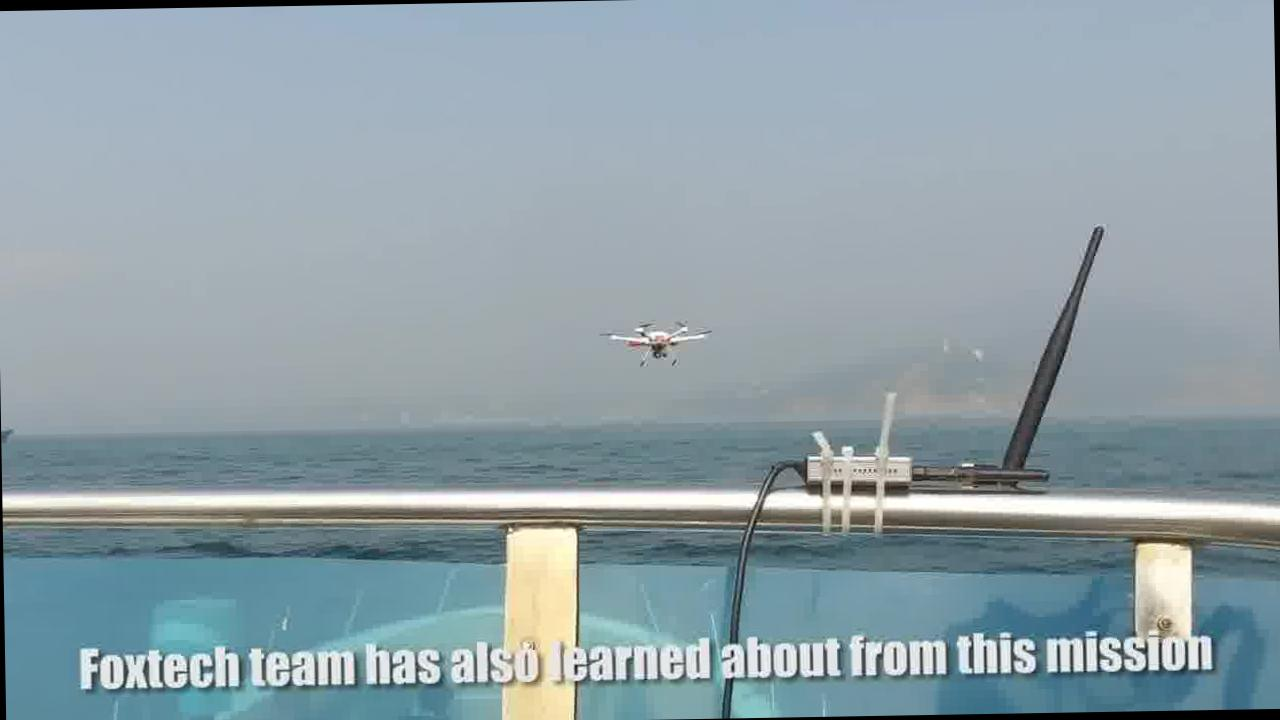drone: (596, 316, 711, 368)
